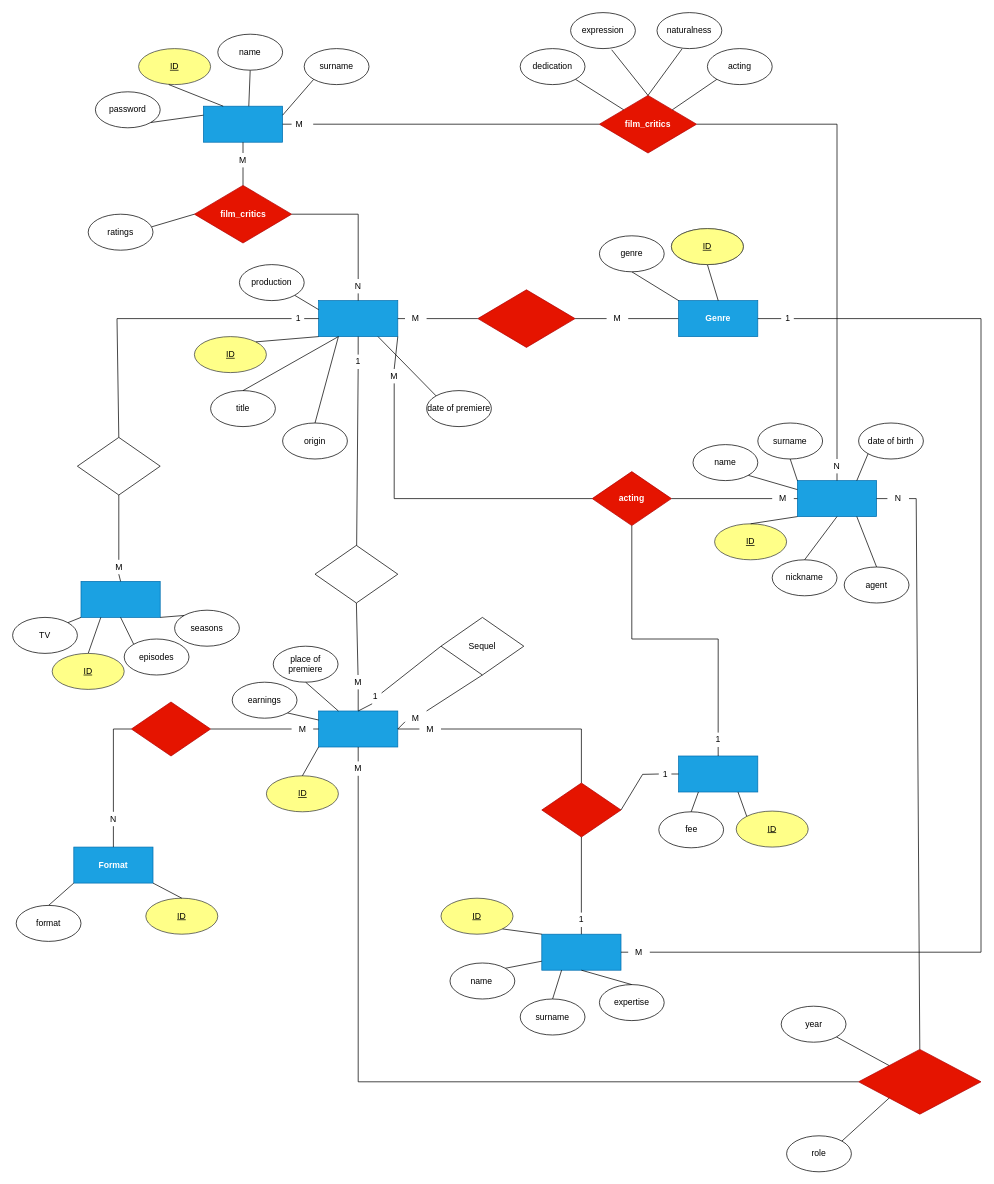
Some shapes in this 994 by 1184 pixel diagram are drawn without their labels. Here are the shapes that lost their labels. From the top down, the box of each, then its label:
(203, 105, 283, 142): Critic
(318, 300, 398, 337): Films
(477, 289, 575, 347): film_genre
(797, 480, 877, 517): Actors
(80, 581, 160, 617): Series
(131, 701, 211, 756): movies_format
(318, 710, 398, 747): Movies
(678, 755, 758, 792): Fees
(541, 782, 621, 837): directs
(541, 933, 621, 970): Directors
(858, 1049, 981, 1114): academy_award_winners
